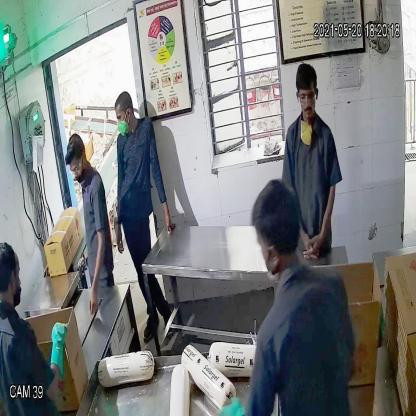goggles: (296, 89, 318, 107), (66, 158, 84, 178)
